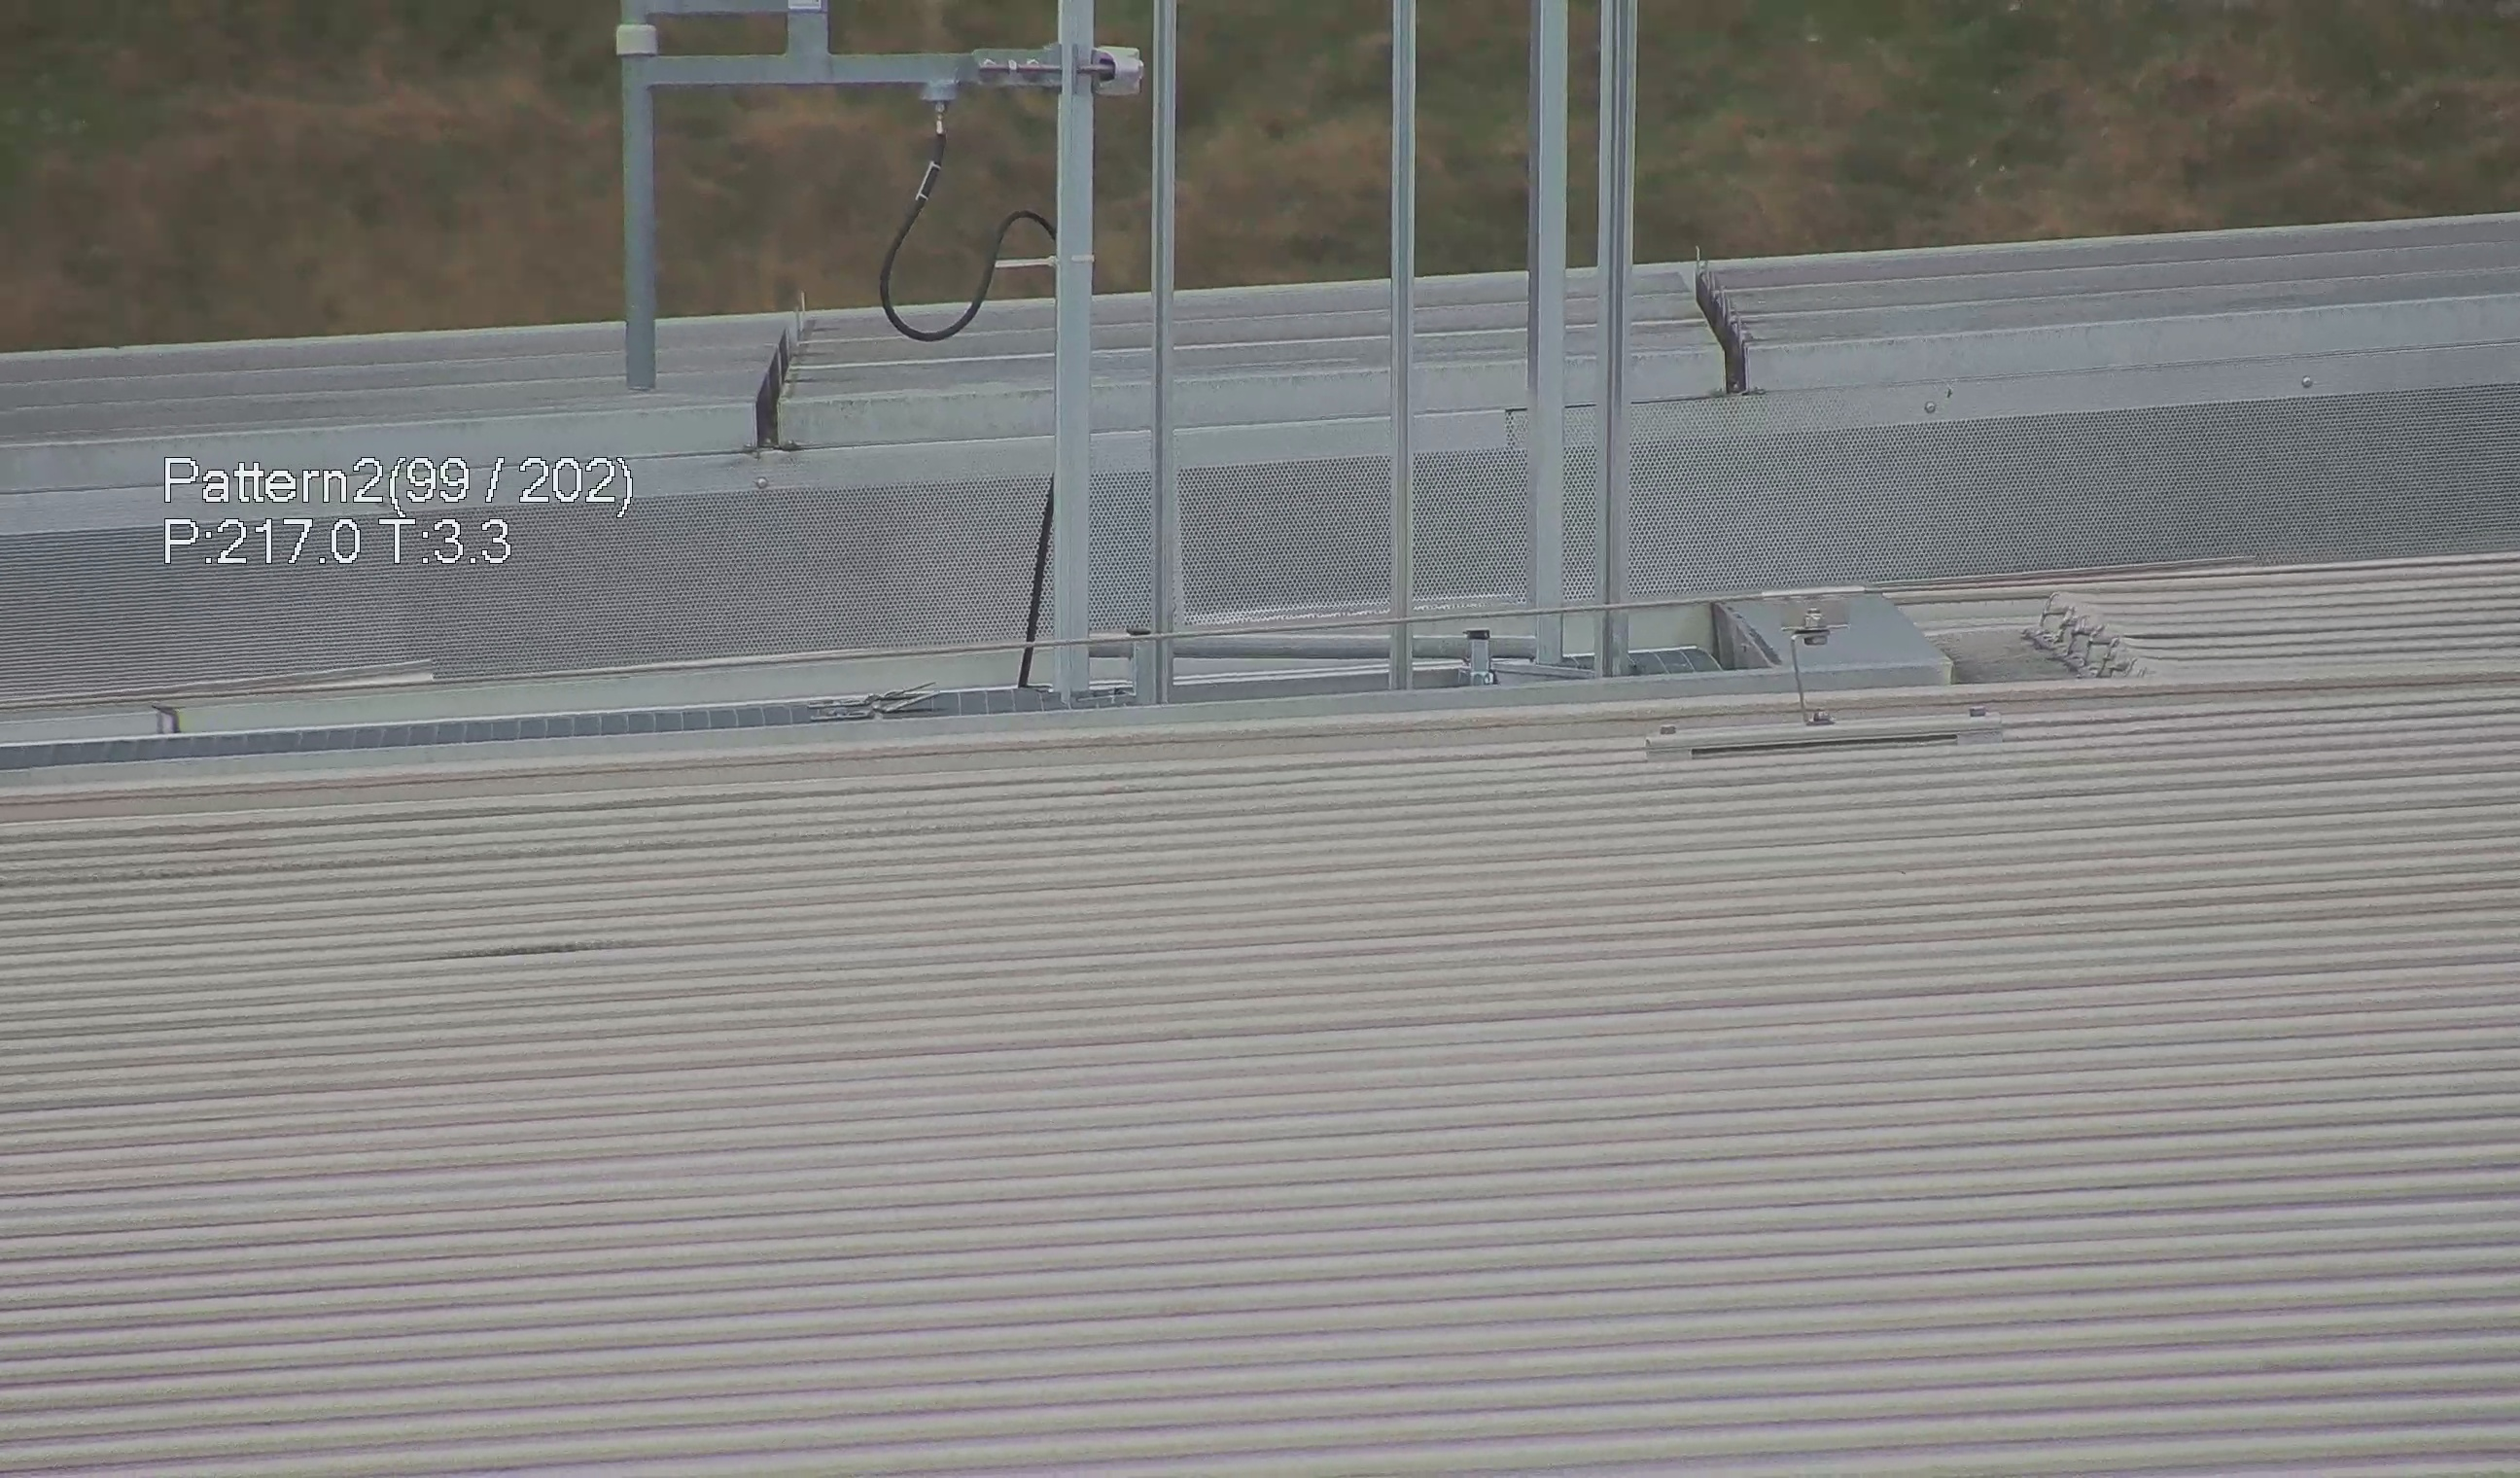Other: (1690, 246, 1774, 399)
